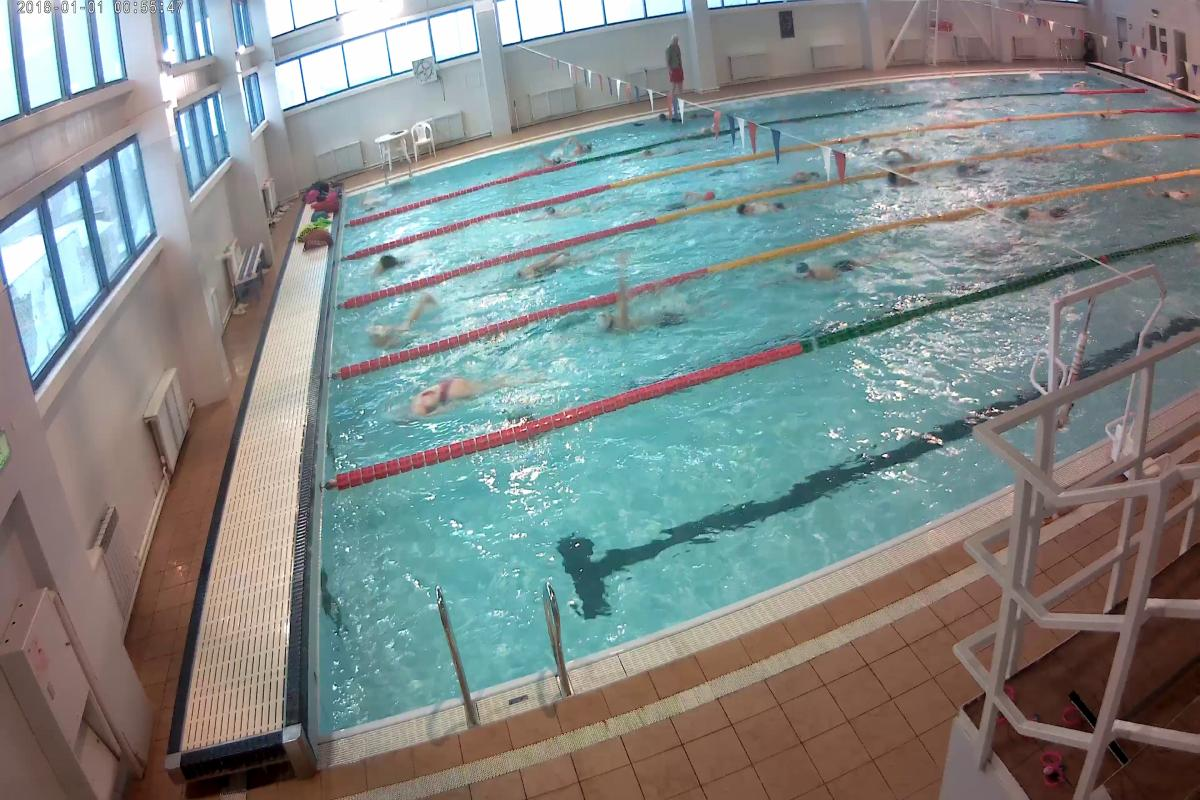swimmer: (596, 288, 714, 348), (796, 239, 902, 295), (406, 366, 500, 427), (518, 240, 588, 290), (1026, 194, 1088, 240), (734, 190, 801, 229), (365, 252, 423, 283), (532, 204, 594, 231), (1160, 179, 1200, 211), (951, 163, 1001, 183), (888, 169, 929, 192)
